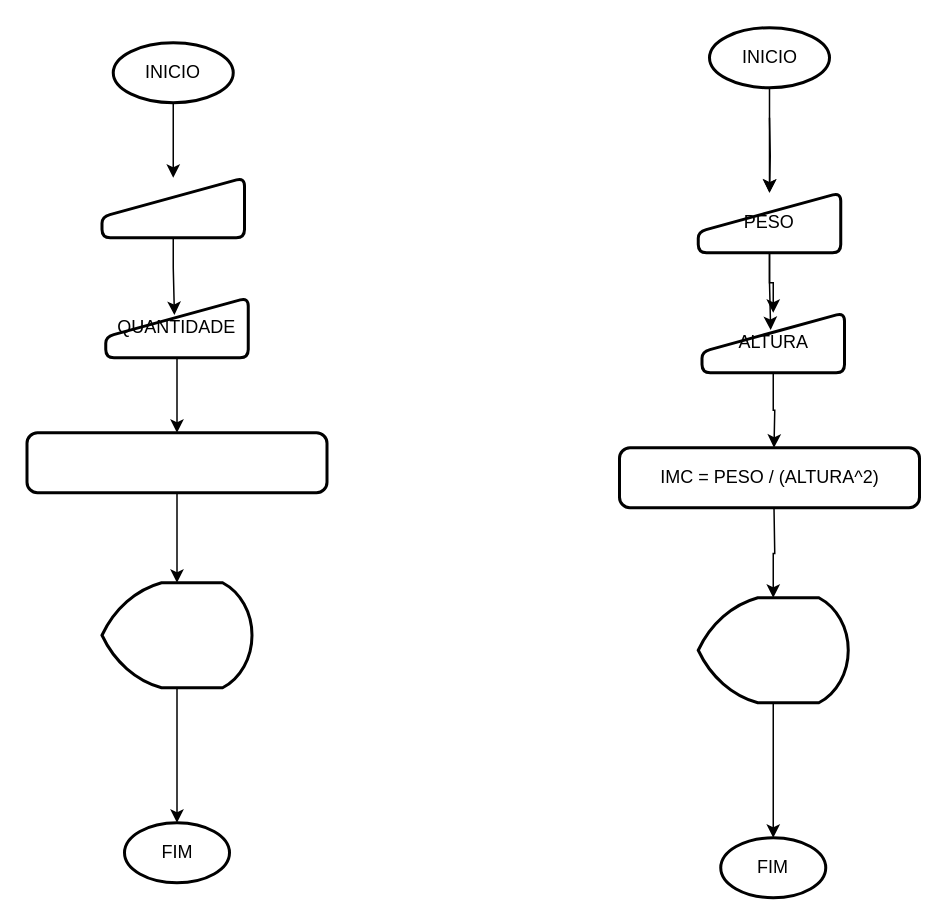
The diagram is 947 pixels wide and 924 high, and some of its shapes have lost their labels. The shapes that lost their labels are listed below. From the top down, each one's centre as x and y in pixels, then its label:
At (172,207): "VALOR DOLAR".
At (176,462): "VALOR-REAL = VALORDOLAR * QUANTIDADE".
At (176,634): "VALOR-REAL".
At (772,650): "IMC".
